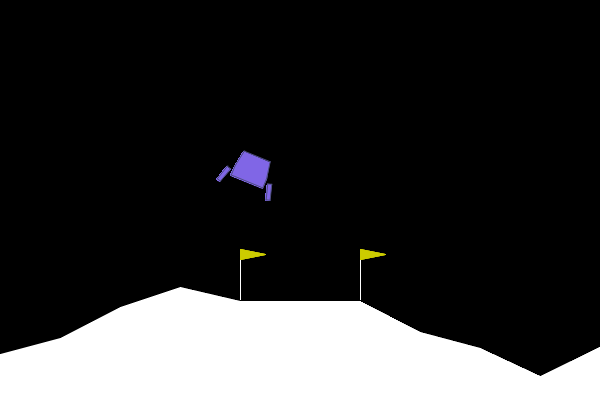lander: (215, 144, 285, 203)
